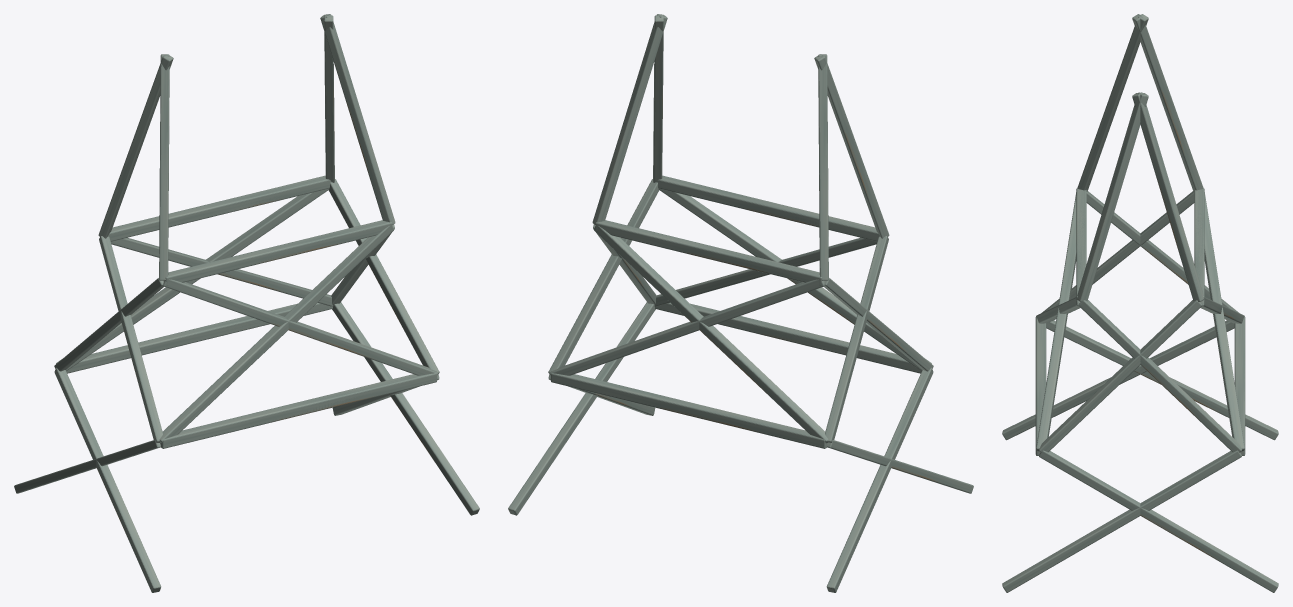
File: Tower_Bracing.glb
3 renders of one model, left to right at view 1: azimuth 30°, elevation 25°; view 2: azimuth 150°, elevation 25°; view 3: azimuth 270°, elevation 25°, orthographic.
Parts seen in each view (by area): view 1: Tower_Bracing; view 2: Tower_Bracing; view 3: Tower_Bracing.
Part boxes in pixels (x1,y1,x2,y2): Tower_Bracing: [14, 14, 479, 592]; Tower_Bracing: [508, 14, 973, 592]; Tower_Bracing: [1002, 14, 1278, 592].
Size of the model in its own units: 9.19 by 12.59 by 6.85.
1 material, 1 textured.
